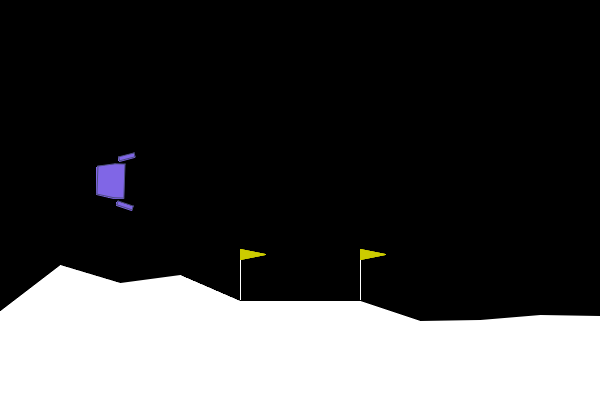lander: (94, 151, 136, 212)
